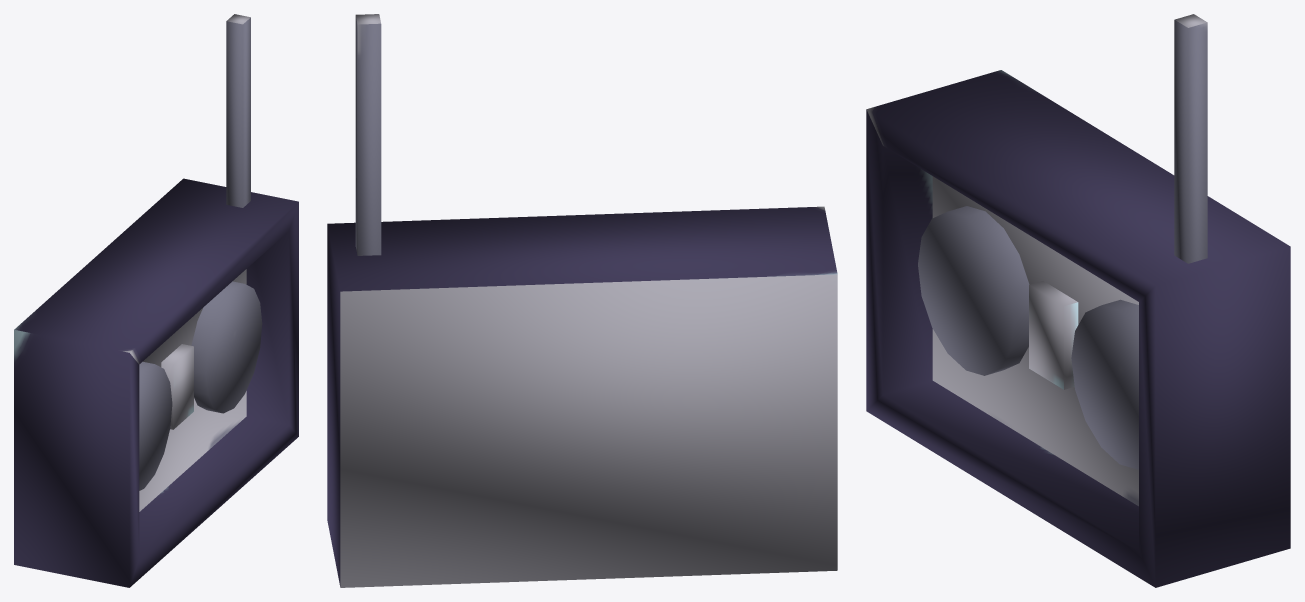
The model's file is Radio.fbx.
3 renders of one model, left to right at view 1: azimuth 30°, elevation 25°; view 2: azimuth 150°, elevation 25°; view 3: azimuth 270°, elevation 25°, orthographic. The views are drawn at different scales.
Visible parts, largest first — view 1: Radio; view 2: Radio; view 3: Radio.
Boxes of the visible parts, x1=… form: Radio: x1=14, y1=14, x2=298, y2=587; Radio: x1=327, y1=14, x2=837, y2=587; Radio: x1=866, y1=14, x2=1290, y2=587.
Bounding box in the file's own units: 44.57 × 36.97 × 51.73.
